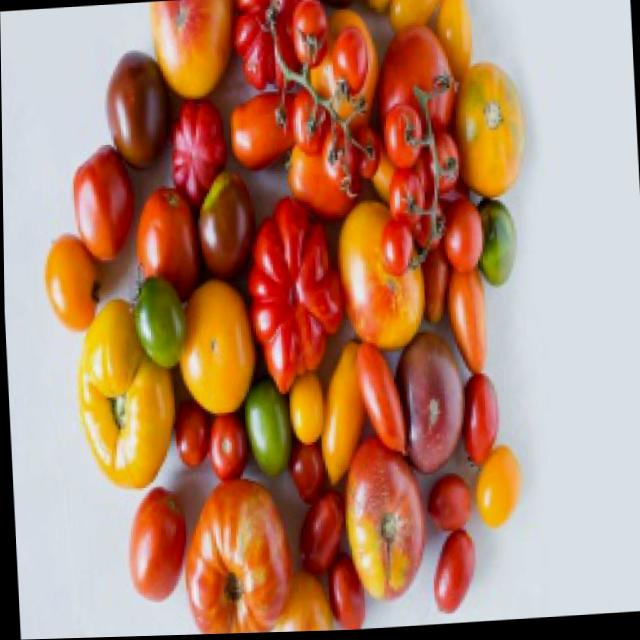tomato: (246, 197, 348, 400), (179, 477, 295, 636), (124, 488, 190, 607), (73, 146, 139, 264), (429, 526, 481, 619), (379, 212, 425, 284)
